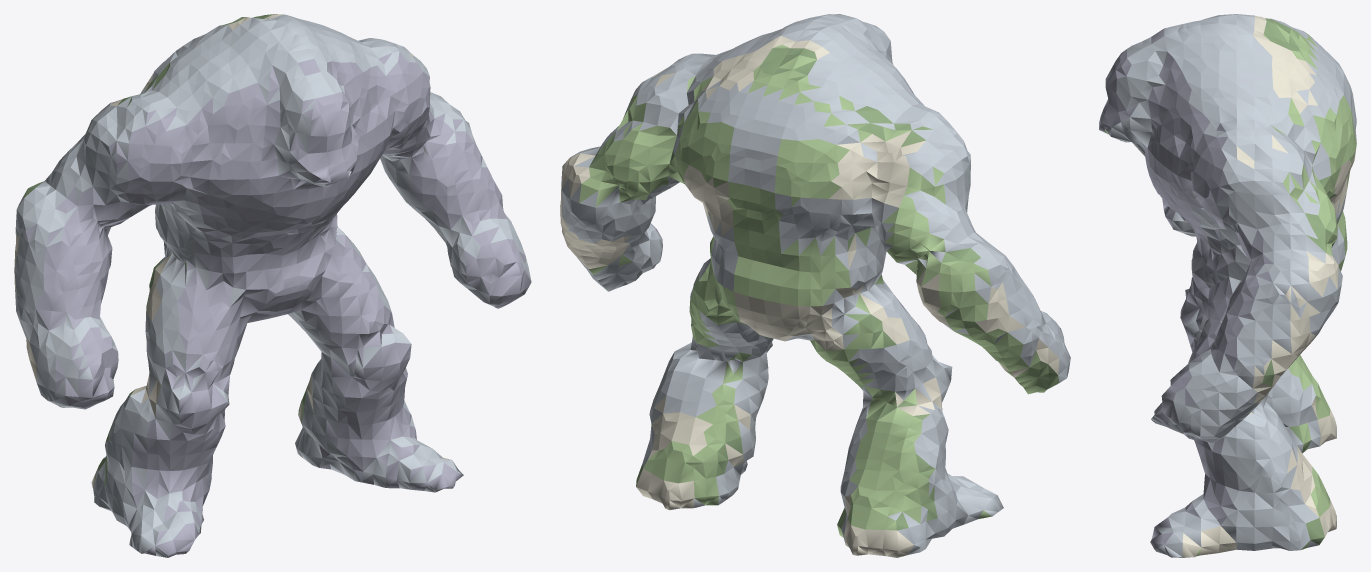
The model's file is giant_forest.glb.
3 views of the same model, side by side, from view 1: azimuth 30°, elevation 25°; view 2: azimuth 150°, elevation 25°; view 3: azimuth 270°, elevation 25° (orthographic).
Parts seen in each view (by area): view 1: ForestGolem; view 2: ForestGolem; view 3: ForestGolem.
Part boxes in pixels (left/top/right/bottom): ForestGolem: left=14, top=14, right=531, bottom=557; ForestGolem: left=560, top=14, right=1070, bottom=557; ForestGolem: left=1099, top=14, right=1356, bottom=557.
Bounding box in the file's own units: 7.46 × 7 × 3.51.
